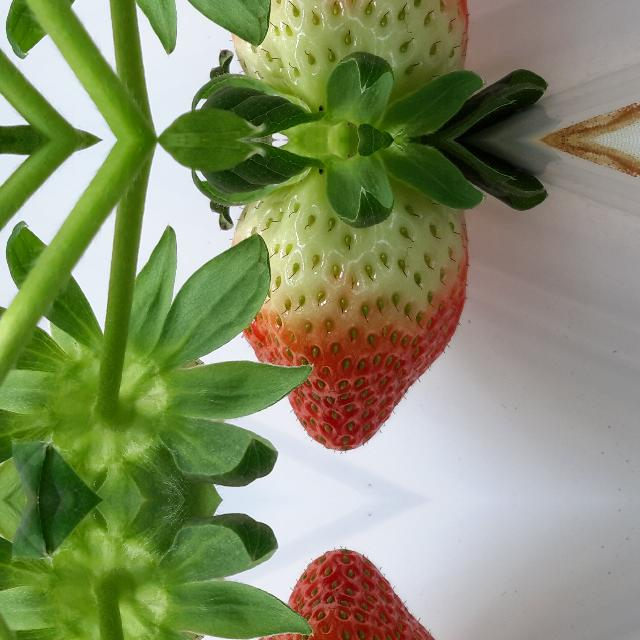Health_50: (230, 184, 470, 452), (230, 0, 470, 96), (230, 548, 470, 640)
